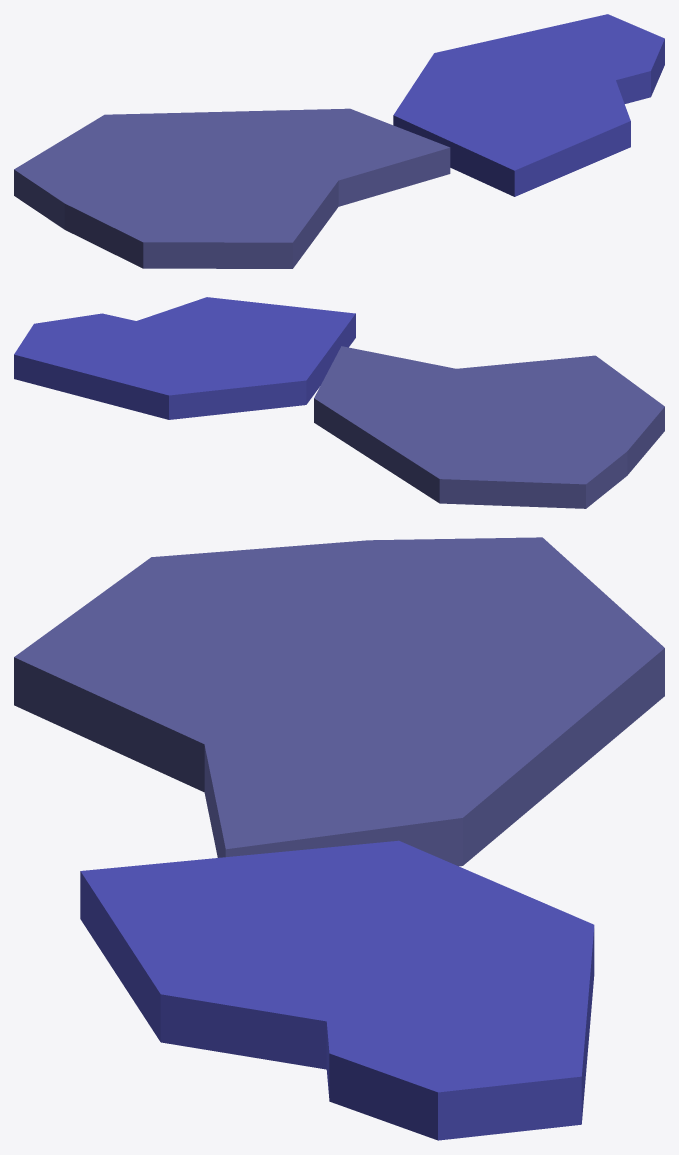
Rendered from NC_Stone09.fbx.
3 views of the same model, one above another, from view 1: azimuth 30°, elevation 25°; view 2: azimuth 150°, elevation 25°; view 3: azimuth 270°, elevation 25° (orthographic). The views are drawn at different scales.
Parts seen in each view (by area): view 1: NC_Stone09; view 2: NC_Stone09; view 3: NC_Stone09.
Part boxes in pixels (bbox=[...]): NC_Stone09: bbox=[14, 14, 664, 268]; NC_Stone09: bbox=[14, 297, 664, 508]; NC_Stone09: bbox=[14, 537, 664, 1140].
Bounding box in the file's own units: 40.99 × 1.66 × 20.32.
1 material, 1 textured.
